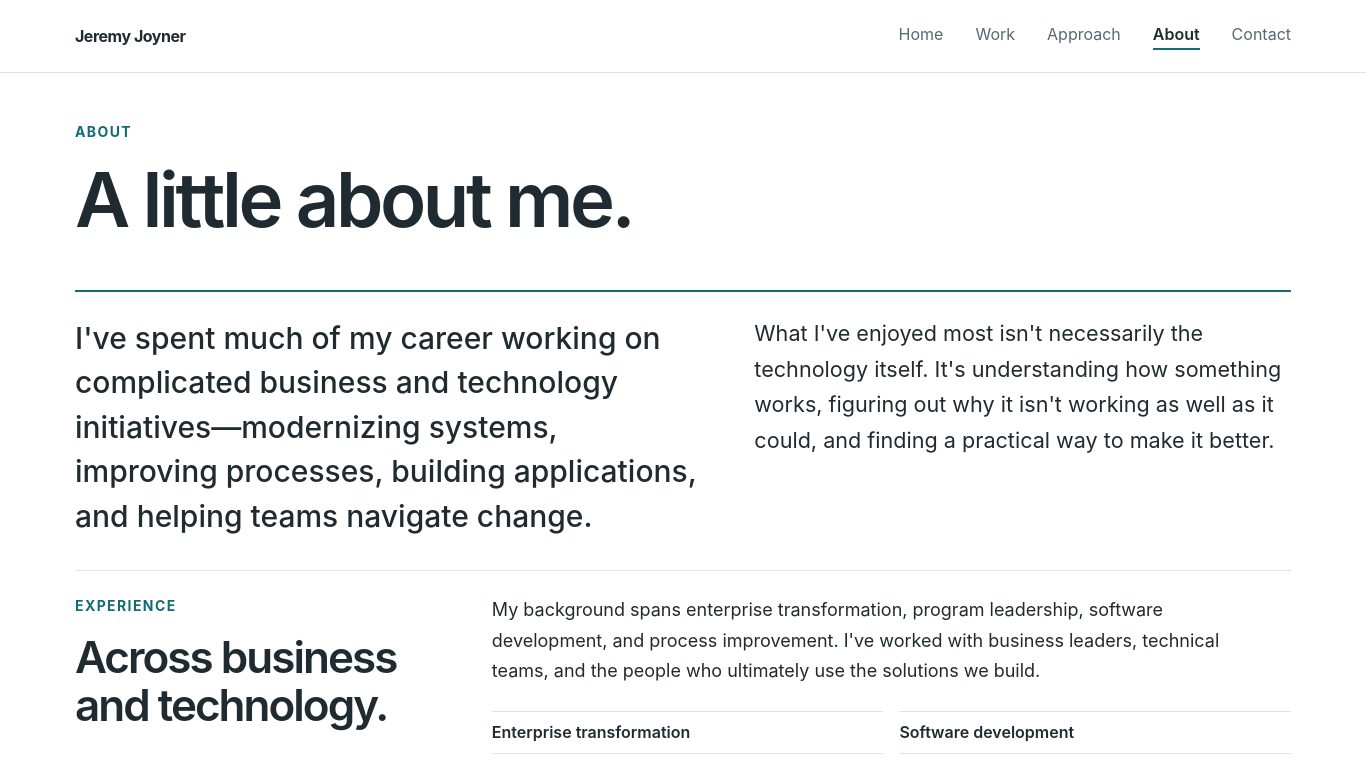
Test: portfolio routes and navigation › preserves approved About and Contact copy without invented destinations
Expected: the text "I've spent much of my career working on complicated business and technology initiatives—modernizing systems, improving p" is shown, [75,320,696,534]
Expected: the text "What I've enjoyed most isn't necessarily the technology itself. It's understanding how something works, figuring out why" is shown, [754,320,1281,453]
Click the link "Contact".
click(1261, 36)  # box [1232,22,1291,50]
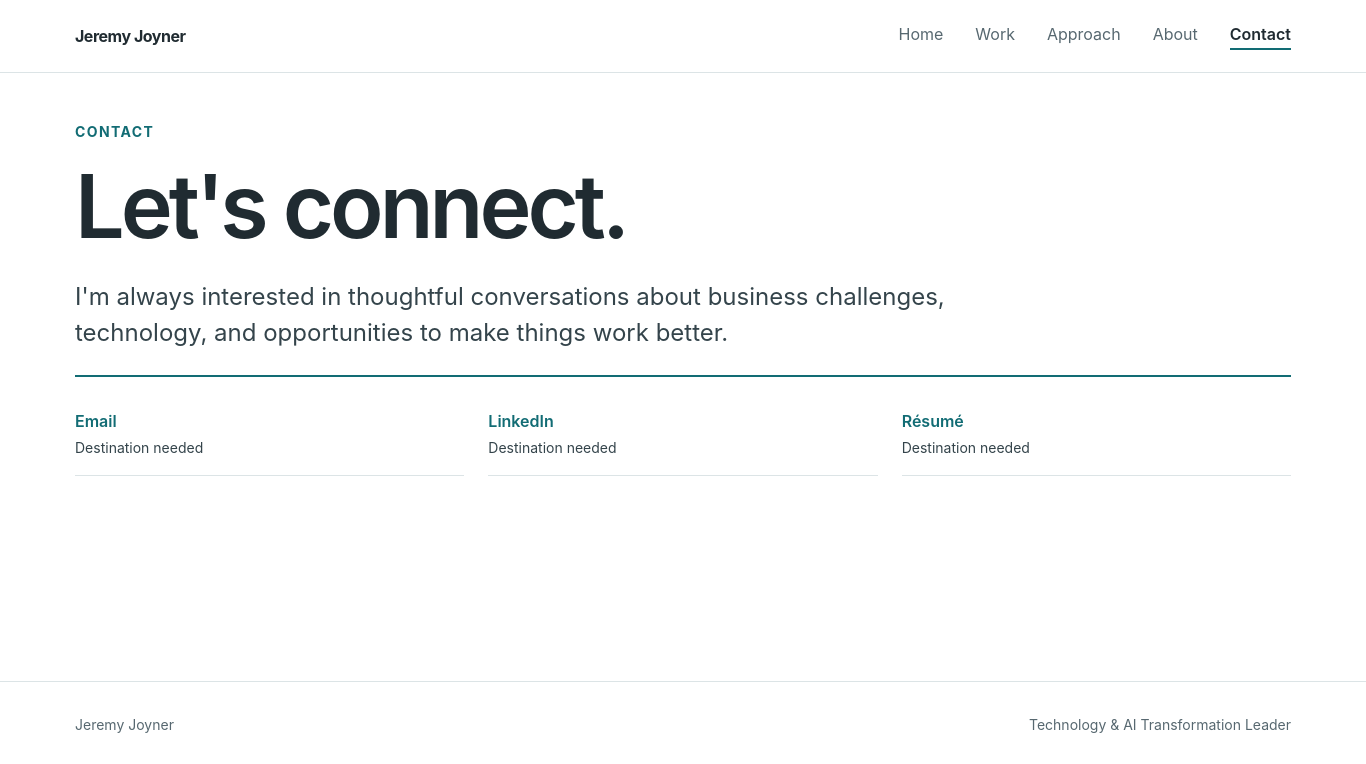
Now the text "I'm always interested in thoughtful conversations about business challenges, technology, and opportunities to make thing" is shown, box [75,282,945,347]
Now the element named "Contact options" shows "Email", box [75,411,117,431]
Now the element named "Contact options" shows "LinkedIn", box [488,411,554,431]
